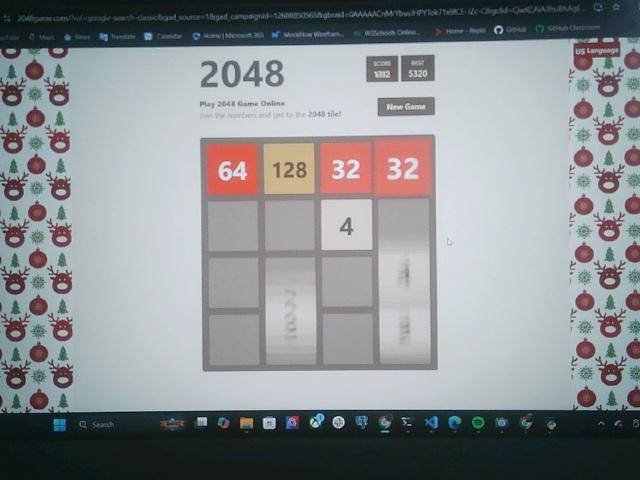board: (201, 137, 437, 370)
tile: (376, 140, 431, 196), (321, 143, 373, 194), (265, 143, 316, 194), (208, 145, 258, 196), (322, 201, 373, 249)
